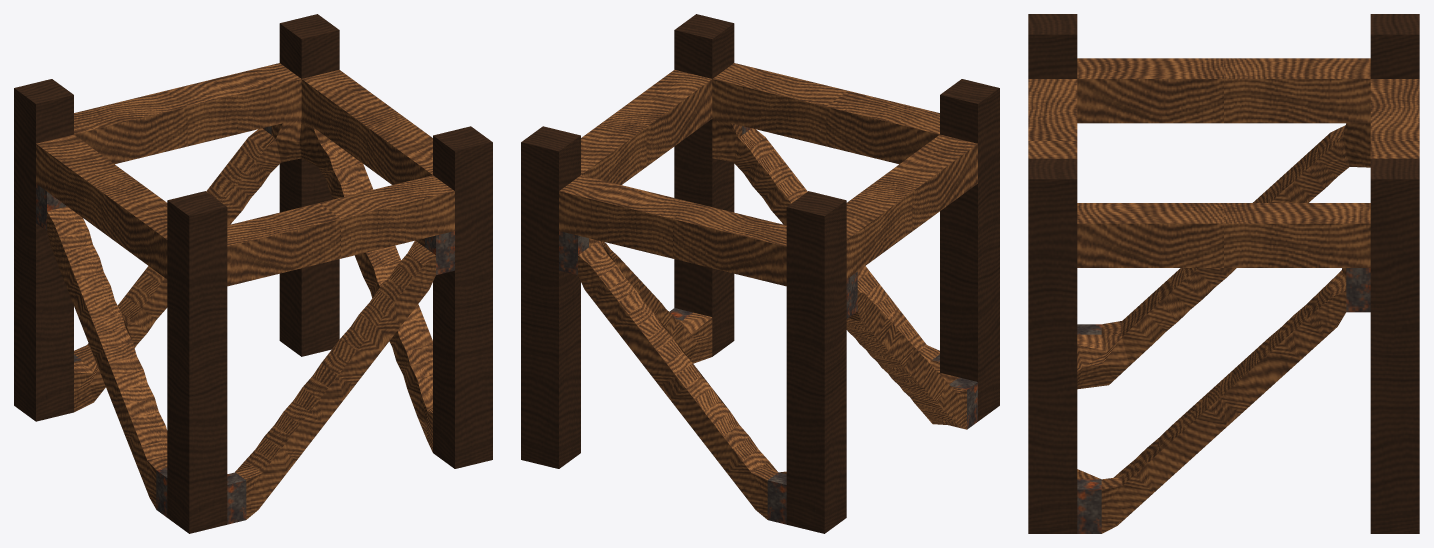
Rendered from scaffold.glb.
The picture shows the model from 3 angles, left to right: view 1: azimuth 30°, elevation 25°; view 2: azimuth 150°, elevation 25°; view 3: azimuth 270°, elevation 25°; orthographic projection. The views are drawn at different scales.
Parts seen in each view (by area): view 1: crypt_scaffold; view 2: crypt_scaffold; view 3: crypt_scaffold.
Boxes of the visible parts, x1=… form: crypt_scaffold: x1=14, y1=14, x2=492, y2=533; crypt_scaffold: x1=521, y1=14, x2=999, y2=533; crypt_scaffold: x1=1028, y1=14, x2=1419, y2=533.
Bounding box in the file's own units: 1 × 1 × 1.
1 material, 1 textured.
